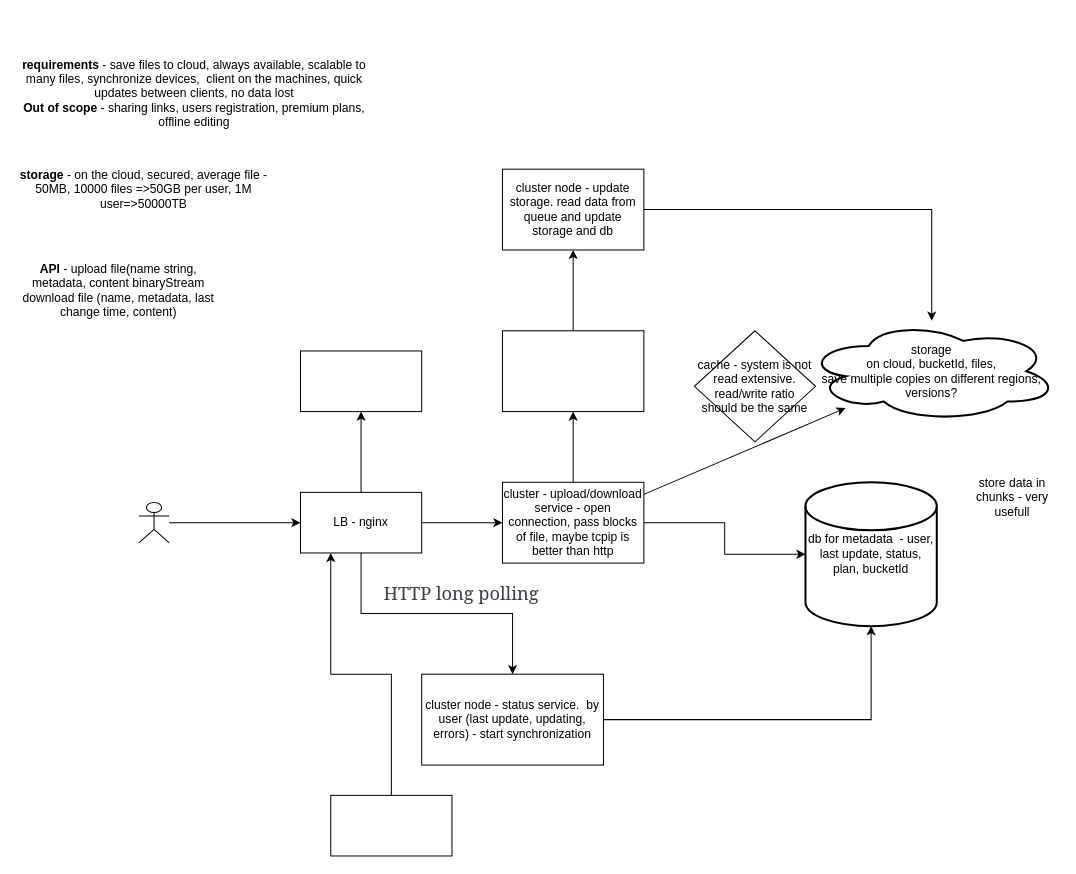
The diagram is 1076 pixels wide and 874 high, and some of its shapes have lost their labels. The box of each missing label's shape, as (x1, y1, x2, y2) in pixels:
authorization service - route to register/signin: (299, 350, 422, 412)
client desktop, mobile, web: (138, 501, 169, 543)
cluster node - download service: (330, 794, 452, 856)
queue - save temporary data by user and file: (501, 330, 644, 412)
